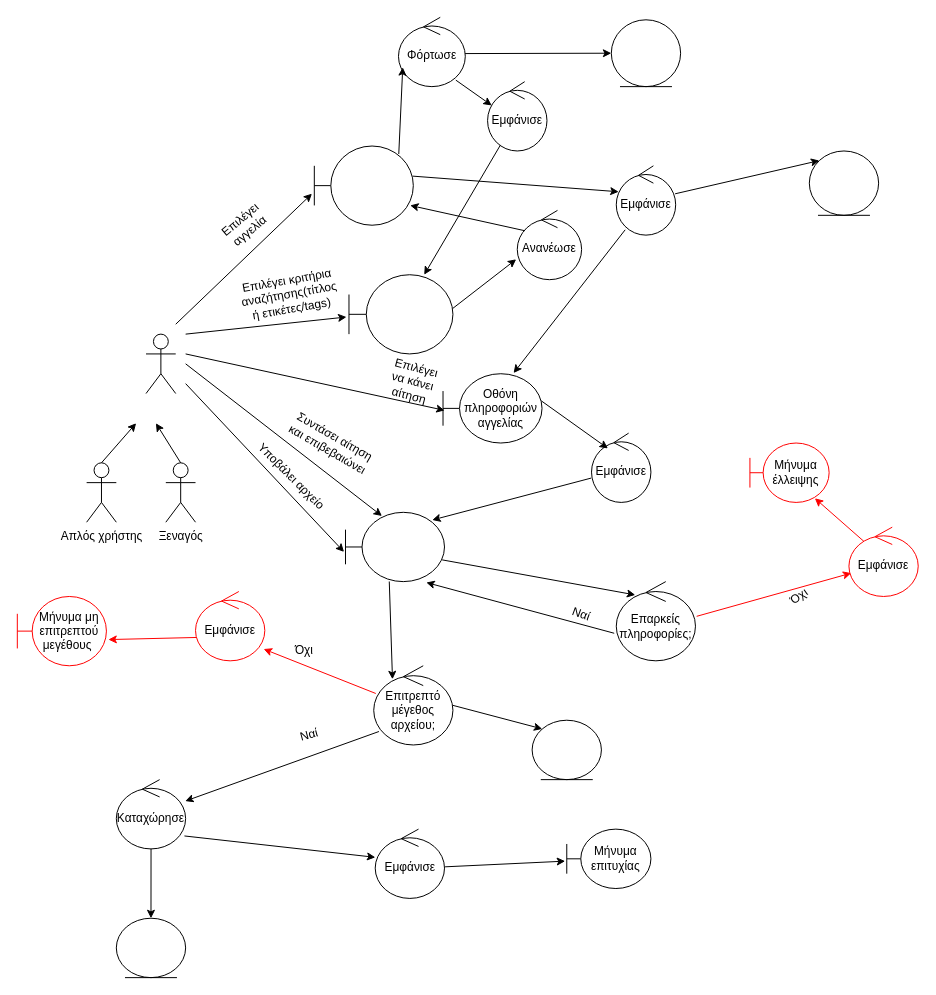
The diagram is 936 pixels wide and 995 high, and some of its shapes have lost their labels. Each missing label, with the box of its shape:
Αίτηση: (115, 917, 186, 978)
Αγγελία: (808, 150, 879, 215)
Αρχεία χειριστή: (531, 719, 601, 780)
Ετικέτες /Tags: (610, 19, 681, 87)
Λίστα αγγελιών εργασίας: (313, 145, 413, 225)
Πεδίο επιλογής κριτηρίων αναζήτησης: (348, 274, 453, 354)
Φόρμα αίτησης εργασίας: (345, 511, 445, 582)
Χειριστής: (145, 333, 176, 394)
